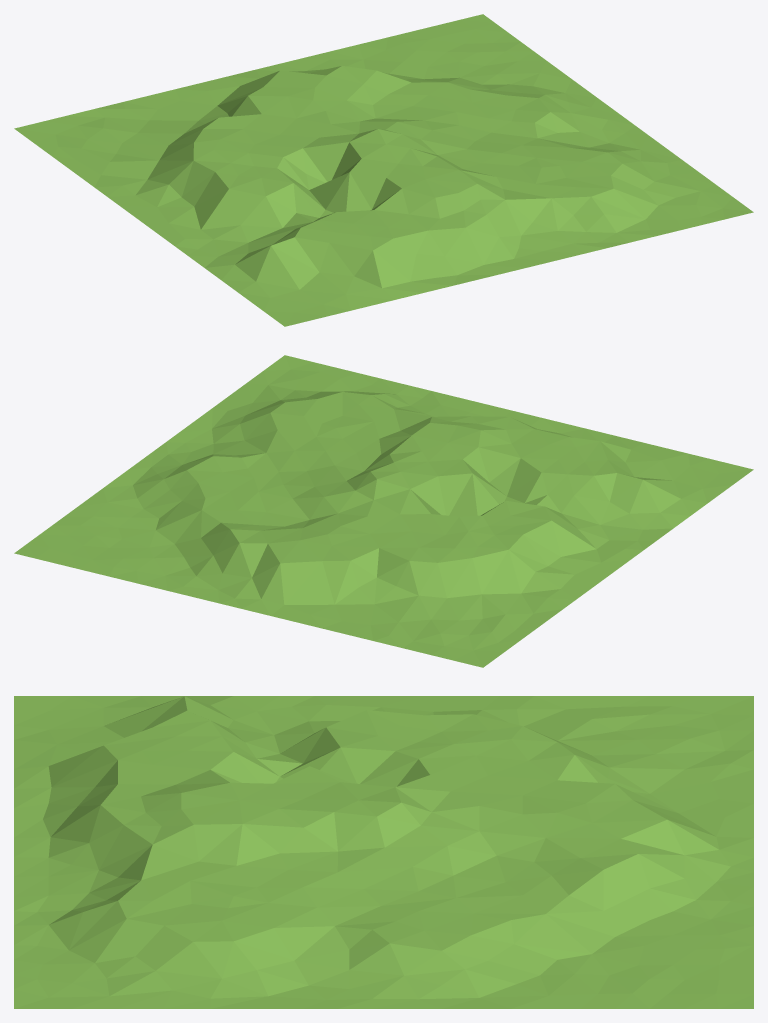
Rendered from MT_Terrain_M_c_13.fbx.
3 renders of one model, top to bottom at view 1: azimuth 30°, elevation 25°; view 2: azimuth 150°, elevation 25°; view 3: azimuth 270°, elevation 25°, orthographic. The views are drawn at different scales.
Visible parts, largest first — view 1: MT_Terrain_M_c_13; view 2: MT_Terrain_M_c_13; view 3: MT_Terrain_M_c_13.
Boxes of the visible parts, x1=… form: MT_Terrain_M_c_13: x1=14, y1=14, x2=753, y2=326; MT_Terrain_M_c_13: x1=14, y1=355, x2=753, y2=667; MT_Terrain_M_c_13: x1=14, y1=696, x2=753, y2=1008.
Bounding box in the file's own units: 5000 × 385 × 5000.
